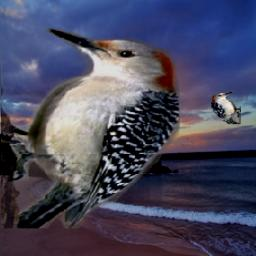Woodpecker: (1, 29, 180, 229), (210, 91, 241, 124)
